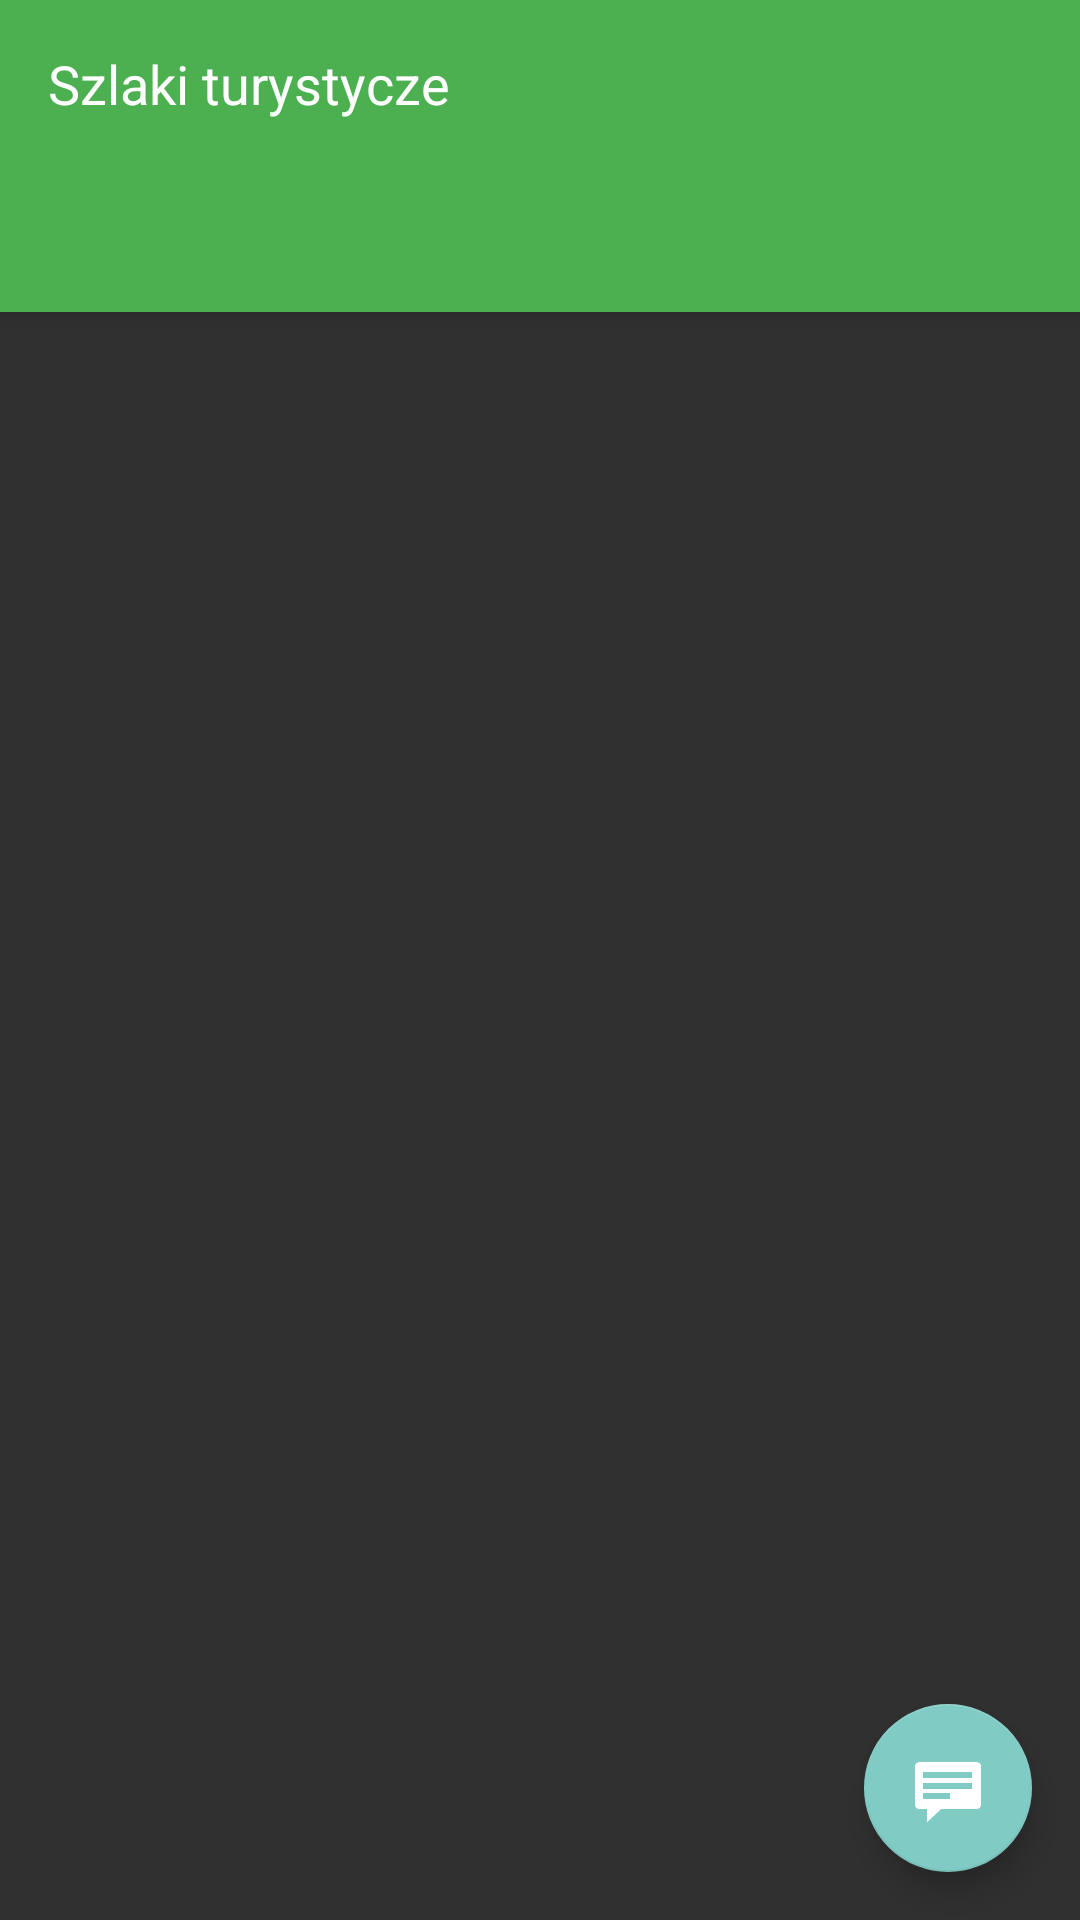

Screen size 1080*1920. Icon name, then its center in pixels as (x=x, y=y):
chat: (x=948, y=1788)
